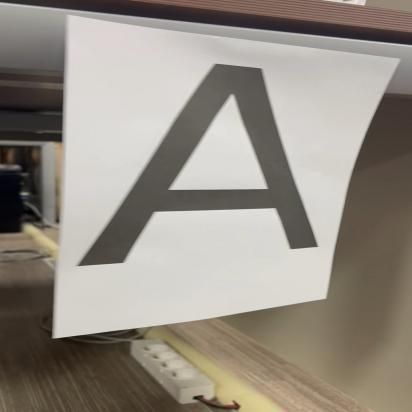seat: (72, 56, 334, 289)
